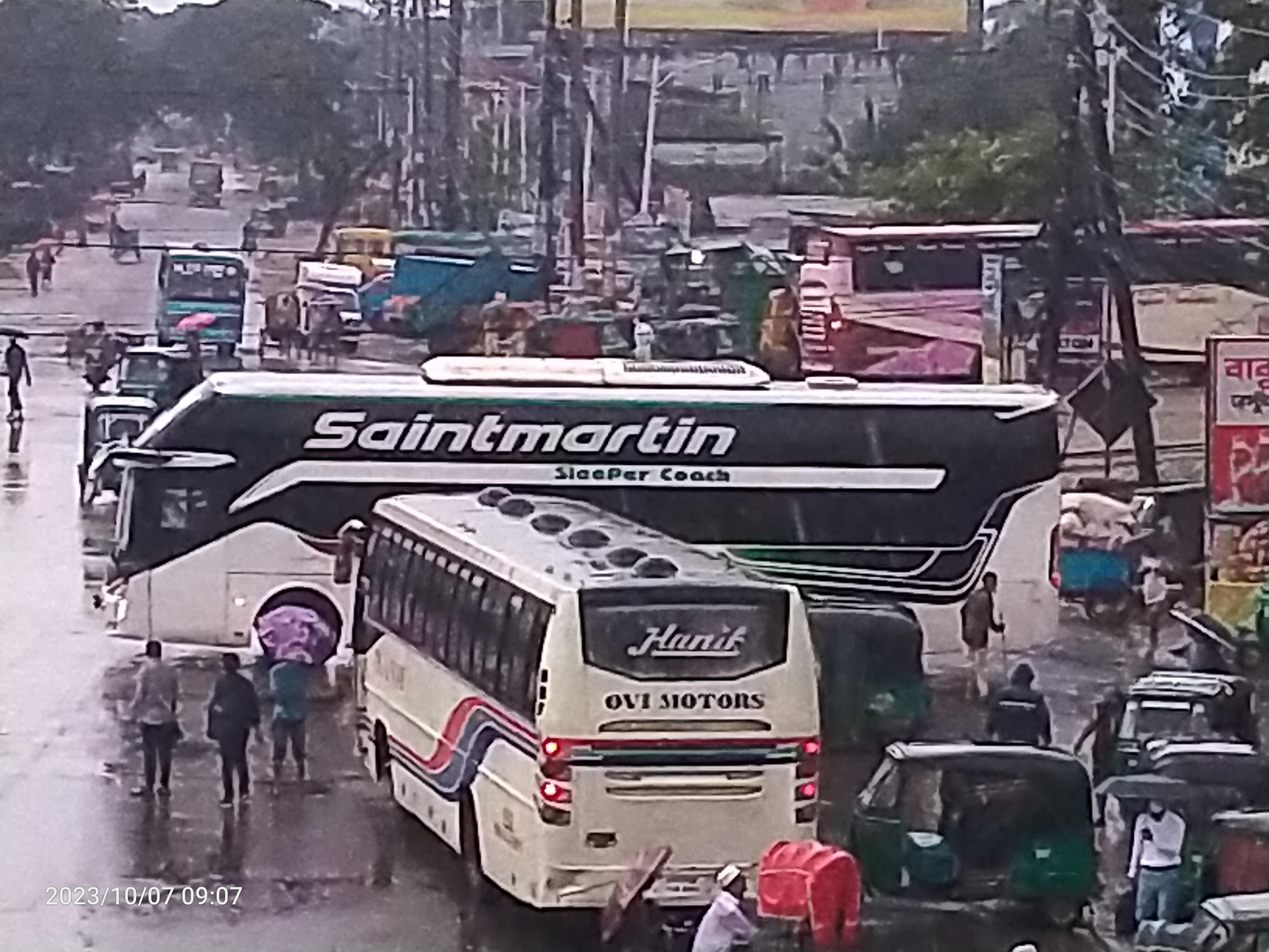Bike: (57, 307, 119, 399)
Bus: (77, 364, 1134, 664), (304, 468, 843, 923), (779, 184, 1115, 448), (1042, 190, 1269, 436), (131, 217, 267, 390)
Car: (255, 284, 311, 359), (305, 273, 346, 366)
